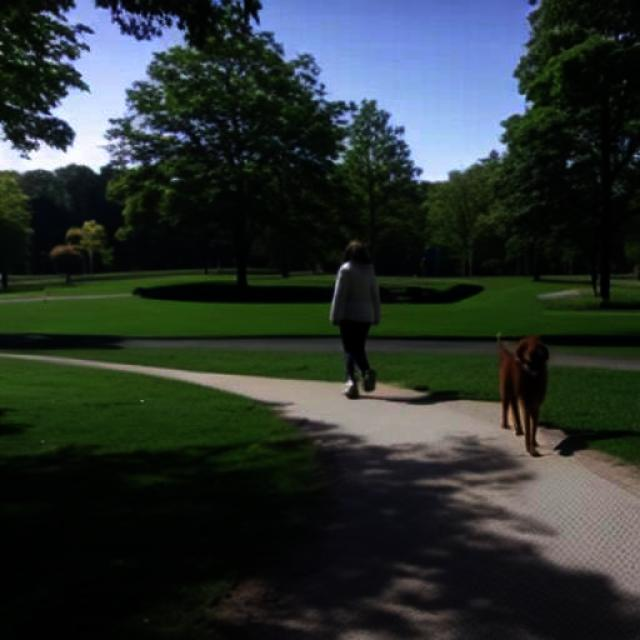Unleashed_Dog: (342, 302, 550, 458)
